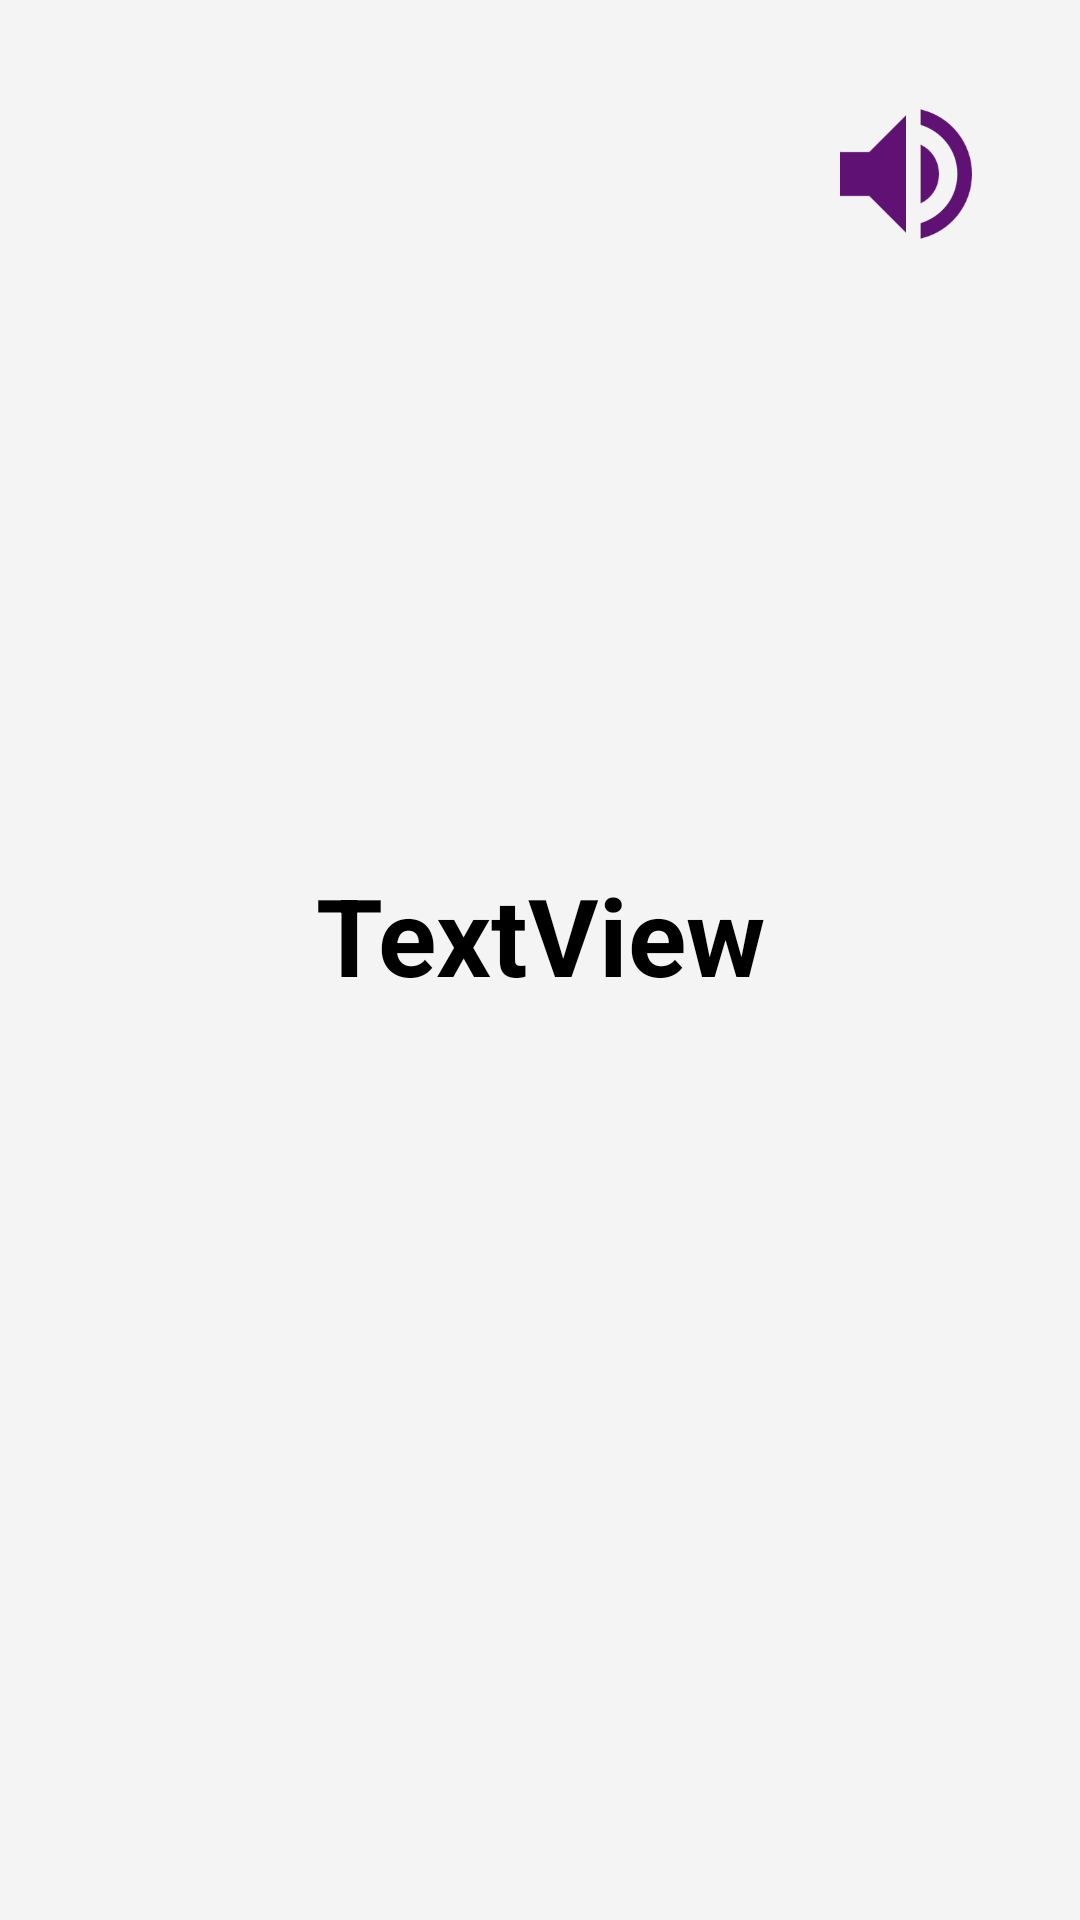

Icon click points for this 1080px×1920px phone screenshot, format (x,y):
speaker: (906,174)
